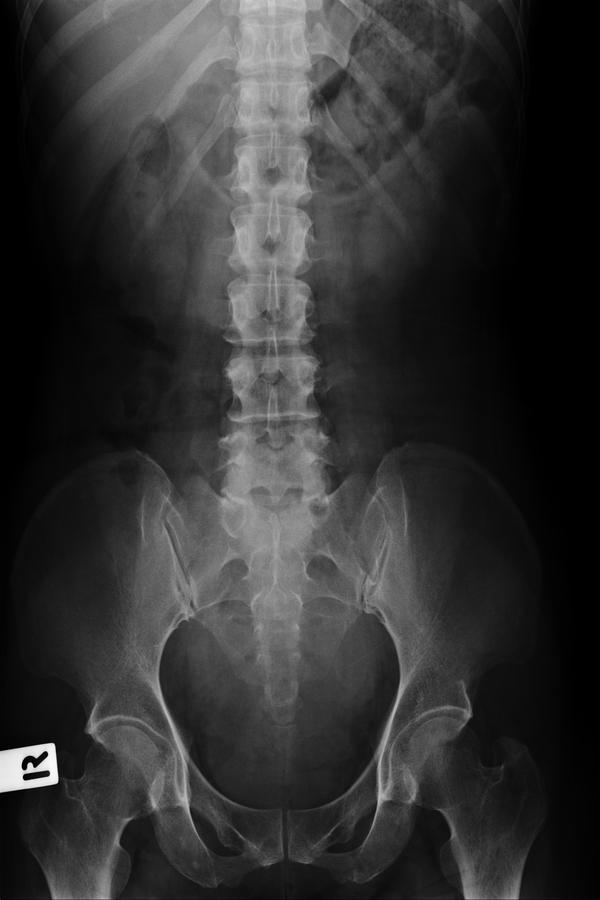not lumbar scoliosis: (217, 168, 333, 520)
